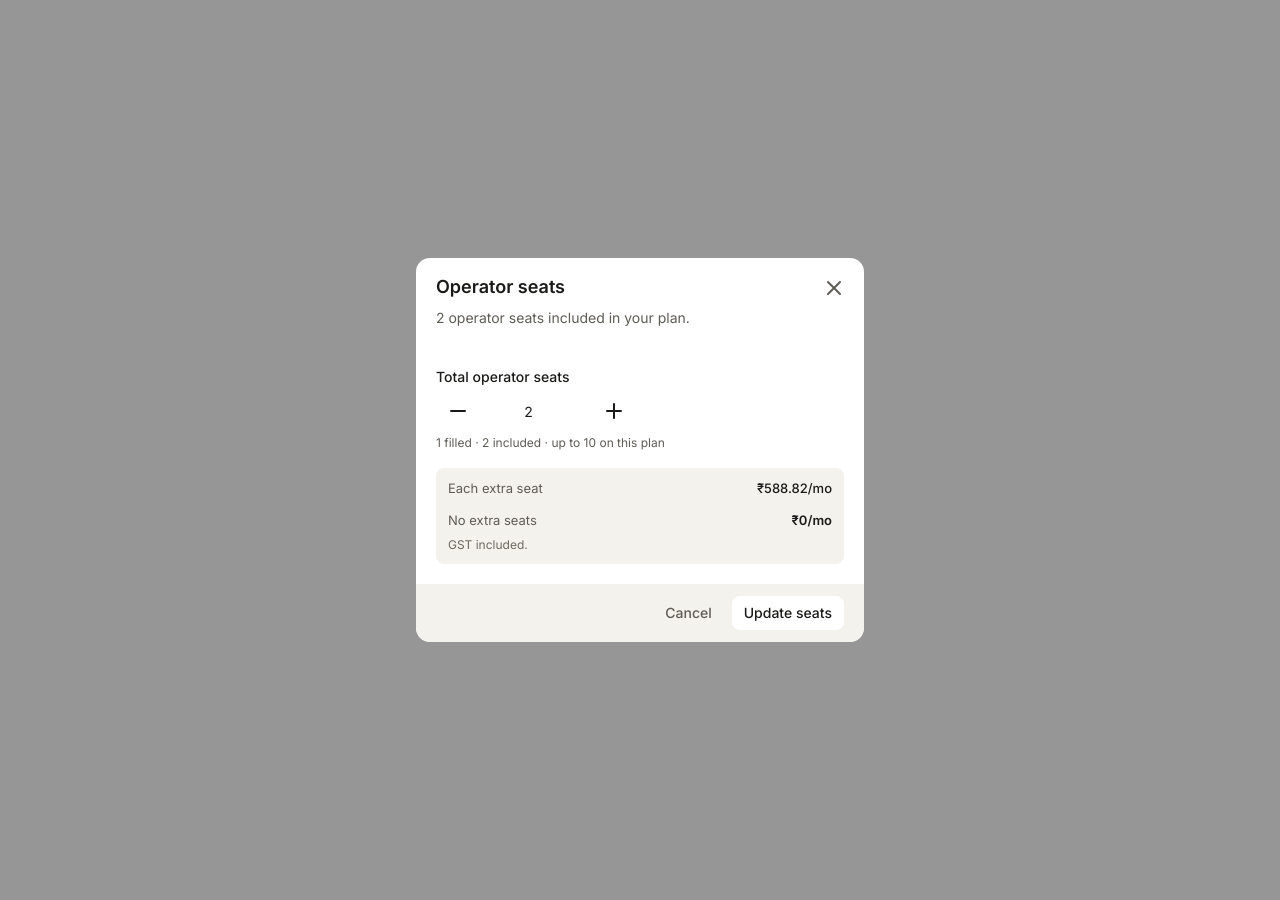
Test case: the price it quotes › totals the extra seats, and only the extra ones
Replace the text in the number field with "4": (536, 411) [488, 394, 584, 428]
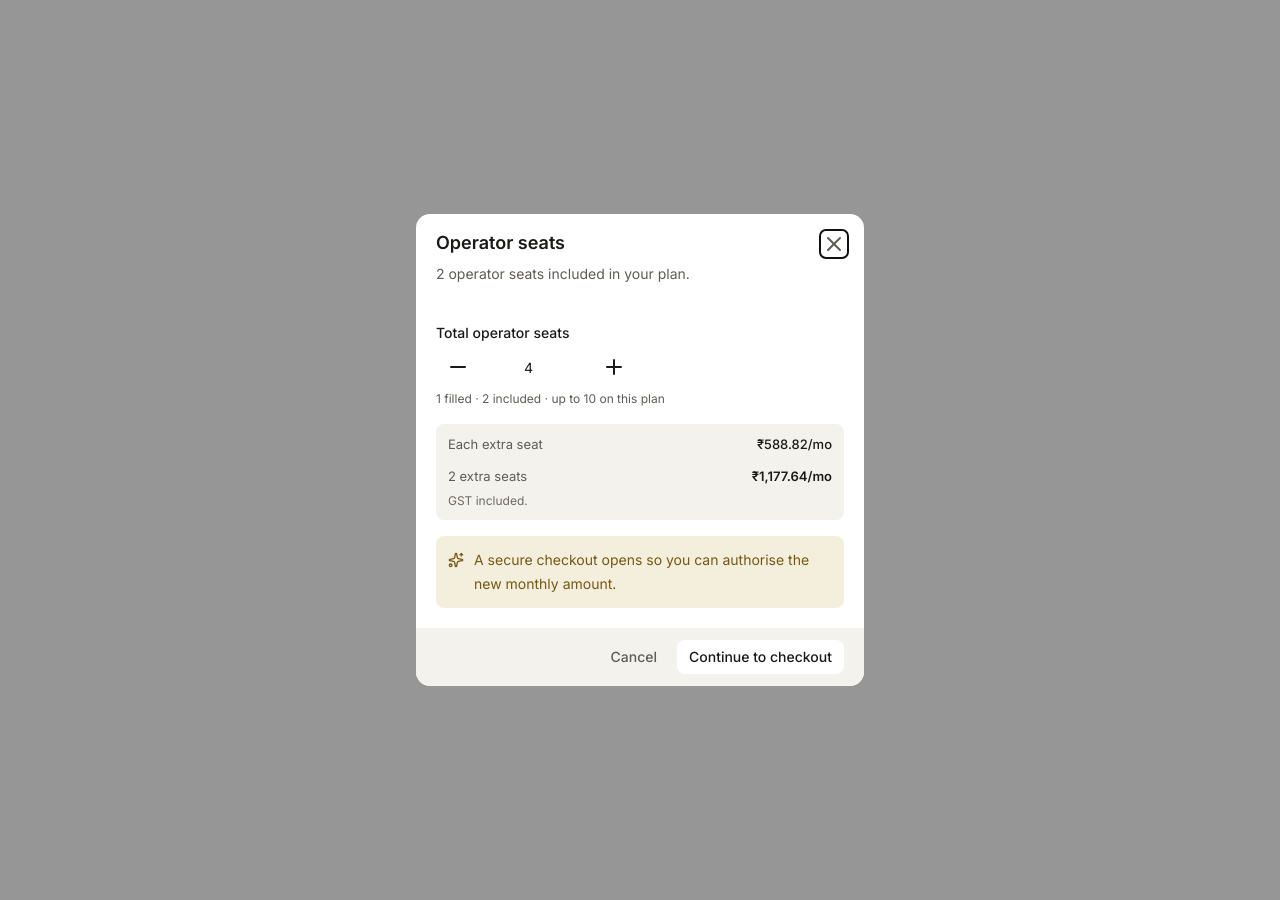
Now the text "2 extra seats" is shown, box [448, 466, 527, 486]
Now the text "₹1,177.64/mo" is shown, box [752, 466, 832, 486]
